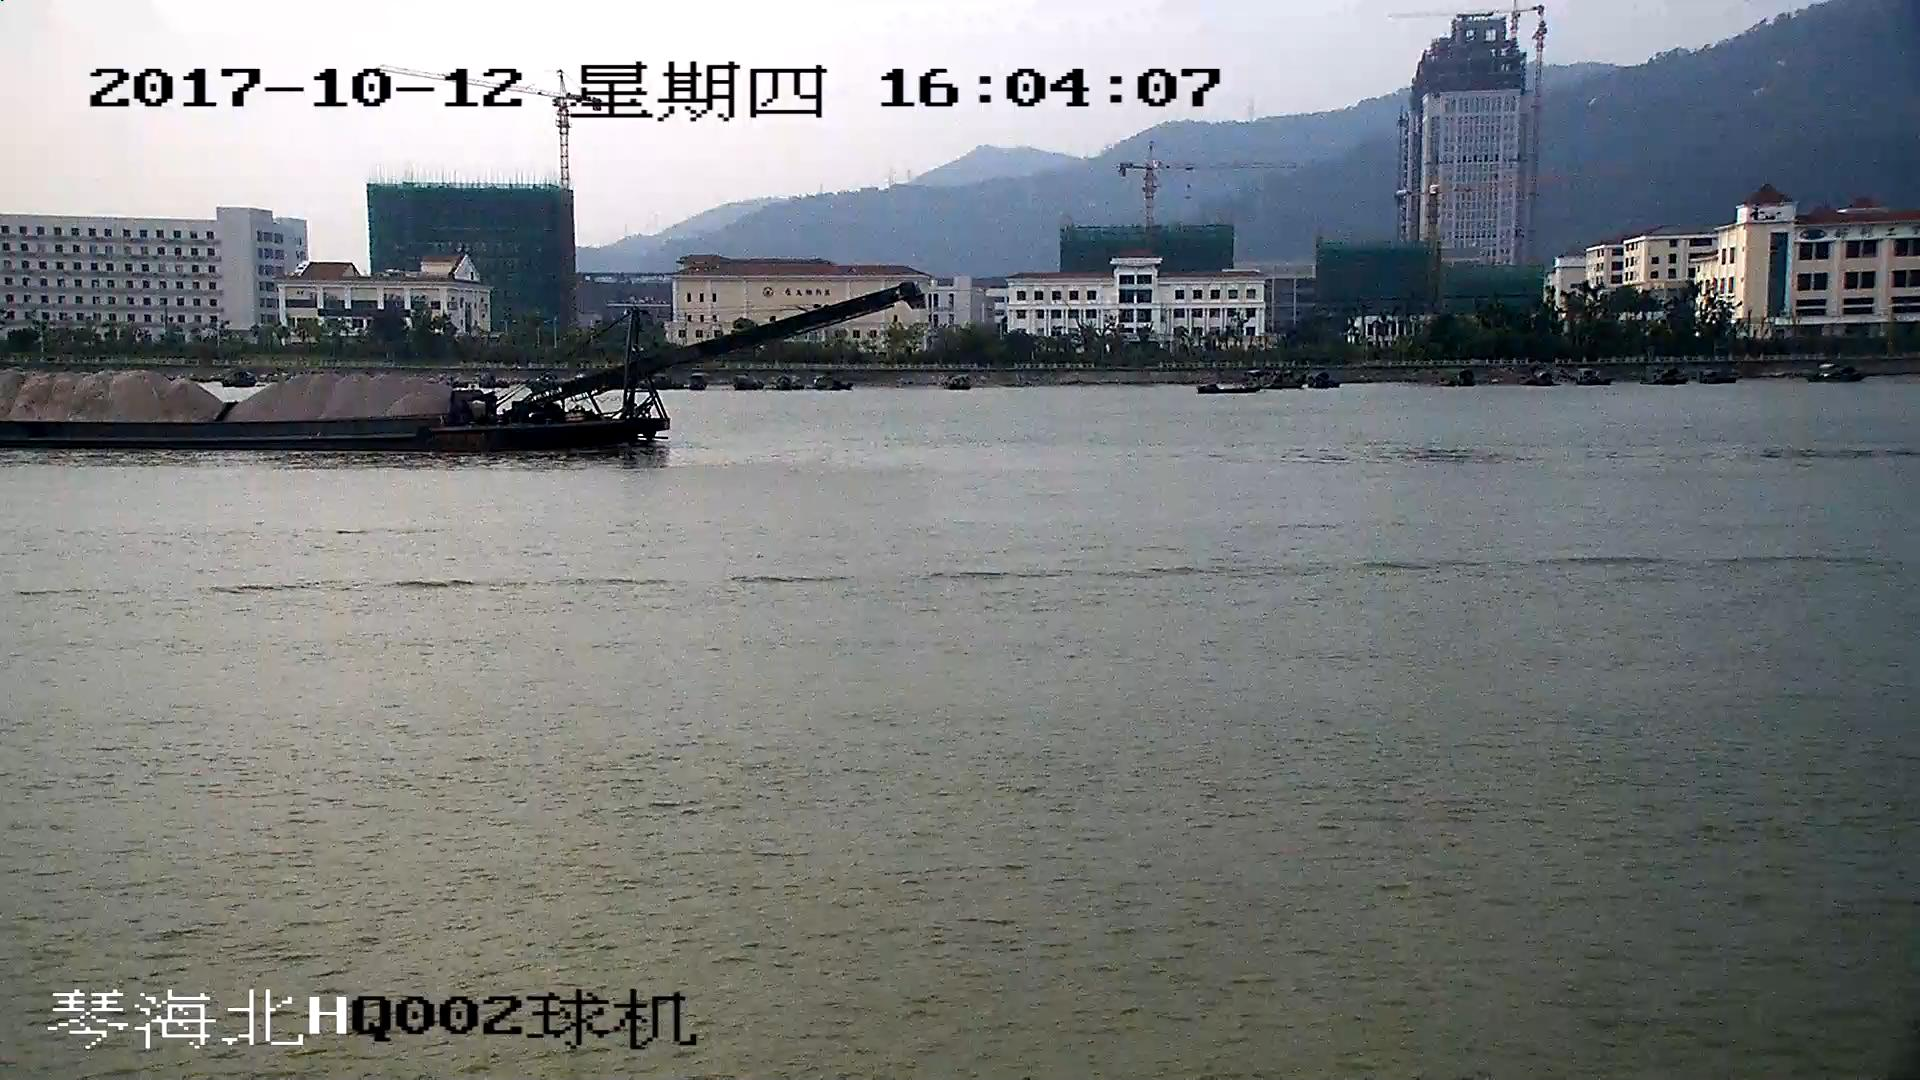ore carrier: (1, 282, 908, 455)
